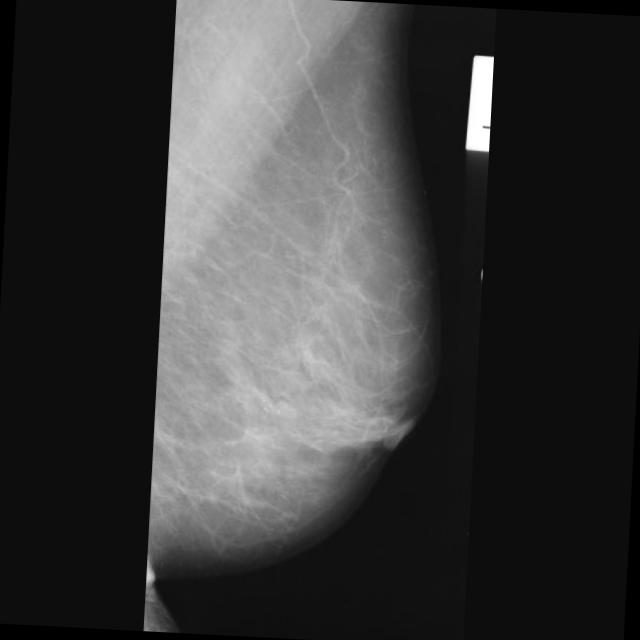CALC: (255, 393, 285, 423)
